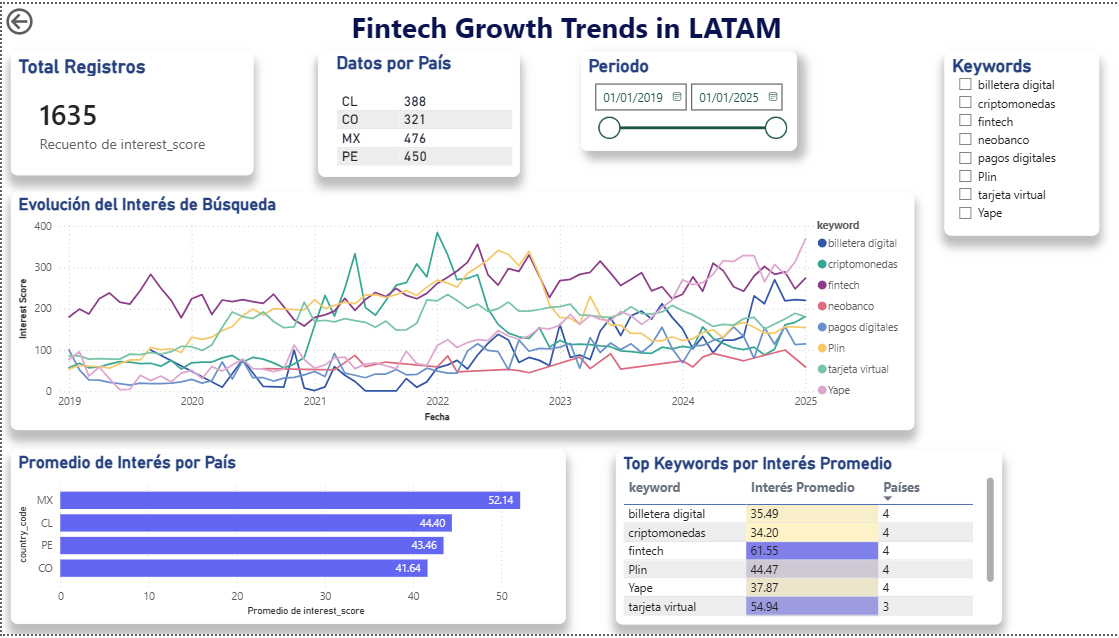

What the dashboard file says about the page in this screenshot:
{"tool":"powerbi","page":{"name":"Página 1","canvas":[1280,720],"ordinal":0},"visuals":[{"type":"textbox","box":[9.6,0,1270.7,55],"z":0},{"type":"cardVisual","title":"Total Registros","fields":{"Data":["CountNonNull(google_trends_final.interest_score)"]},"box":[10,54.7,277.4,141.8],"z":1000},{"type":"actionButton","box":[0,0,100,40],"z":2000},{"type":"lineChart","title":"Evolución del Interés de Búsqueda","fields":{"Y":["Sum(google_trends_final.interest_score)"],"Category":["google_trends_final.date"],"Series":["google_trends_final.keyword"]},"box":[10,214,1032.5,272.4],"z":3000},{"type":"slicer","title":"Periodo","fields":{"Values":["google_trends_final.date"]},"box":[661.8,54.7,247.5,113.2],"z":4000},{"type":"tableEx","title":" Datos por País","fields":{"Values":["google_trends_final.country_code","CountNonNull(google_trends_final.interest_score)"]},"box":[360.7,54.7,230.1,143.1],"z":5000},{"type":"slicer","title":"Keywords","fields":{"Values":["google_trends_final.keyword"]},"box":[1077.3,54.7,176.6,210.2],"z":6000},{"type":"barChart","title":"Promedio de Interés por País","fields":{"Category":["google_trends_final.country_code"],"Y":["Avg(google_trends_final.interest_score)"]},"box":[10,508.8,634.4,200.3],"z":7000},{"type":"tableEx","title":"Top Keywords por Interés Promedio","fields":{"Values":["google_trends_final.keyword","Avg(google_trends_final.interest_score)","google_trends_final.country_code"]},"box":[701.6,510,441.6,199],"z":8000}]}

Visuals, with their boxes in screenshot pixels (x1, y1, x2, y2), scaled from the page's 1280x720 canvas onto the 1119x638 screenshot:
textbox: locate(8, 0, 1118, 49)
"Total Registros" cardVisual: locate(9, 48, 251, 174)
actionButton: locate(0, 0, 87, 35)
"Evolución del Interés de Búsqueda" lineChart: locate(9, 190, 911, 431)
"Periodo" slicer: locate(579, 48, 795, 149)
" Datos por País" tableEx: locate(315, 48, 516, 175)
"Keywords" slicer: locate(942, 48, 1096, 235)
"Promedio de Interés por País" barChart: locate(9, 451, 563, 628)
"Top Keywords por Interés Promedio" tableEx: locate(613, 452, 999, 628)
